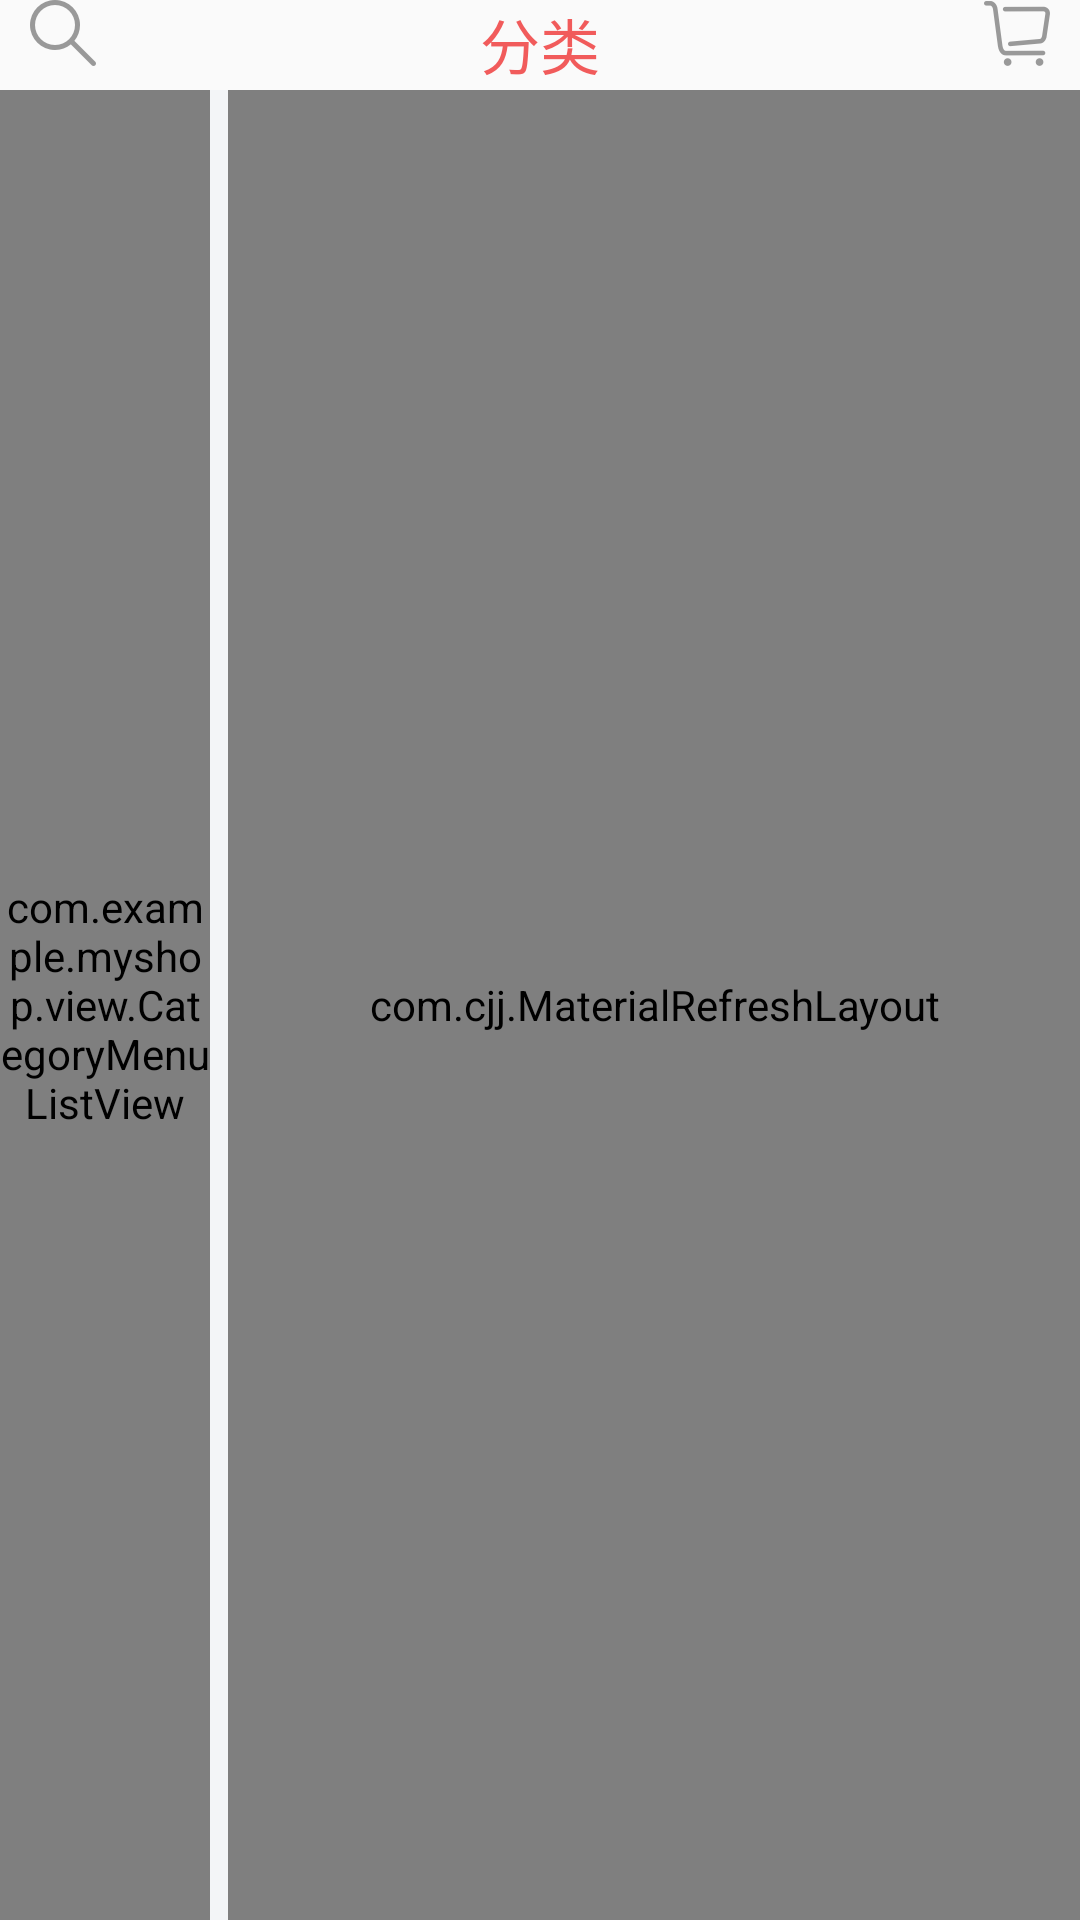

Screen size 1080x1920. Icon name, then its box in pixels as [left=x1, top=y1, right=x2, bottom=y2]:
title bar cart: [left=984, top=1, right=1050, bottom=66]
title bar search: [left=30, top=0, right=96, bottom=66]
